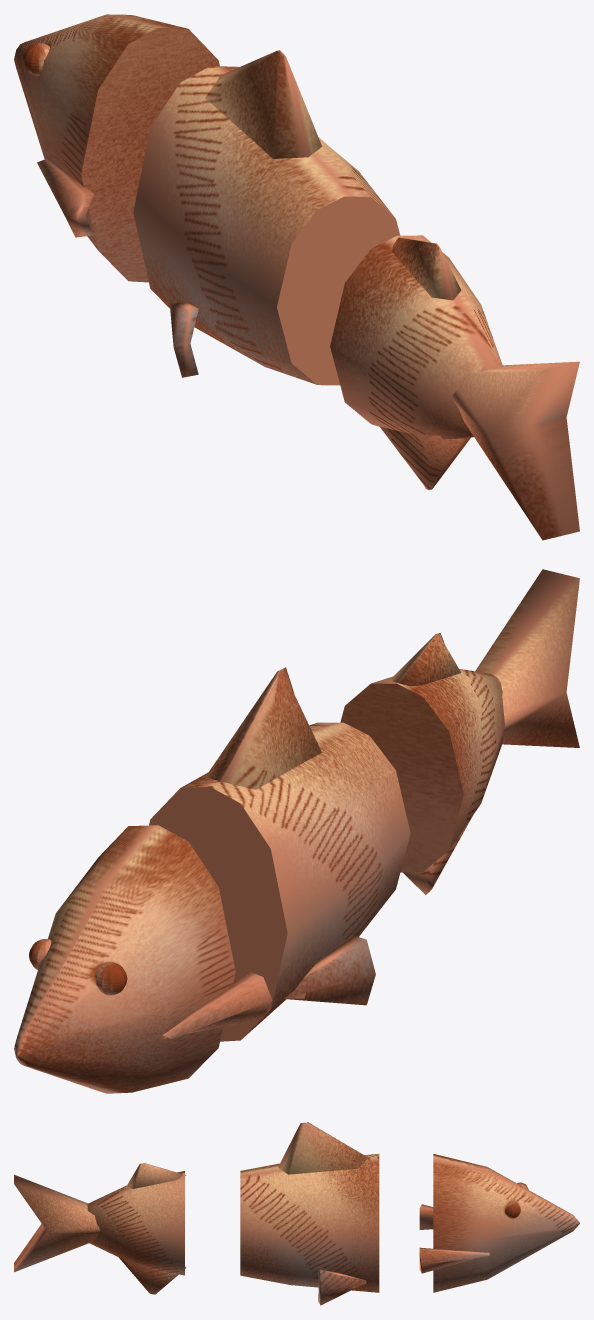
The model's file is BOCACHICO COCINADO.fbx.
3 views of the same model, one above another, from view 1: azimuth 30°, elevation 25°; view 2: azimuth 150°, elevation 25°; view 3: azimuth 270°, elevation 25° (orthographic). The views are drawn at different scales.
Visible parts, largest first — view 1: mitad, cola, cabeza; view 2: mitad, cabeza, cola; view 3: mitad, cabeza, cola.
Boxes of the visible parts, x1,y1,x2,y2 form: mitad: (133, 50, 400, 385); cola: (330, 235, 579, 540); cabeza: (14, 14, 219, 282); mitad: (149, 667, 410, 1041); cabeza: (14, 825, 272, 1093); cola: (340, 569, 579, 894); mitad: (240, 1122, 379, 1305); cabeza: (419, 1154, 579, 1292); cola: (14, 1163, 185, 1294).
Bounding box in the file's own units: 340 × 522 × 1553.
1 material, 1 textured.
